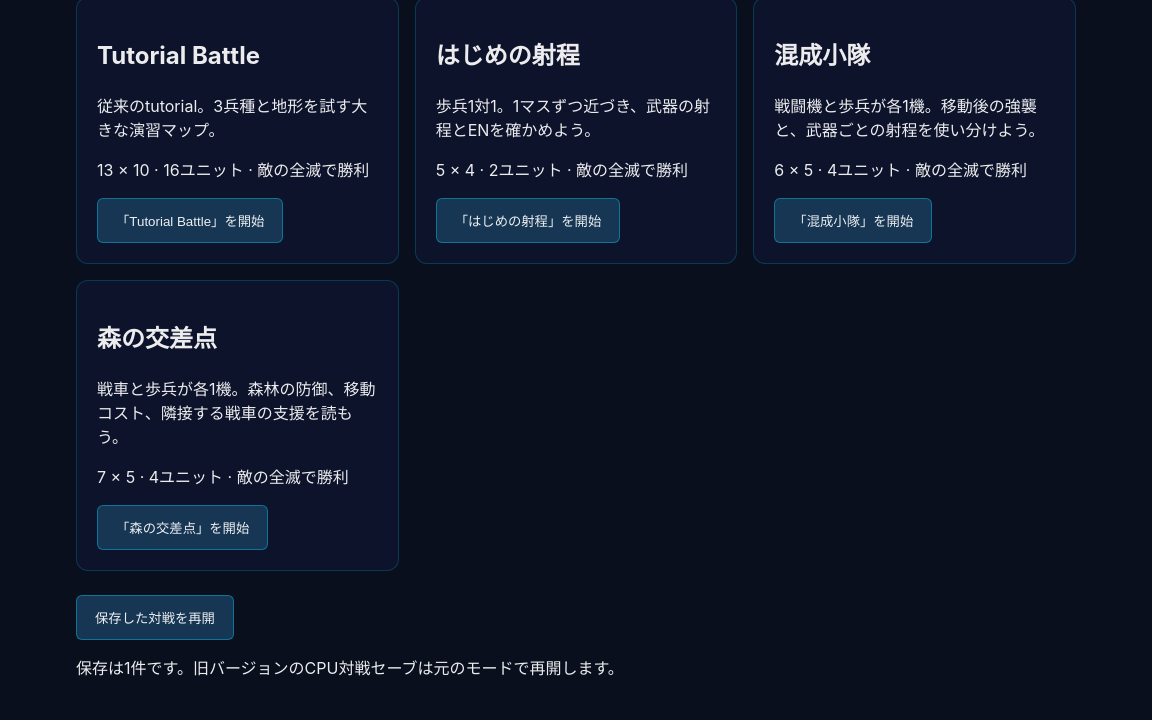
Test case: hotseat application lifecycle › reports unreadable saves without losing the scenario menu
(page scrolled)
Click the button "保存した対戦を再開" at (155, 617), box top-left (76, 594), bottom-right (234, 640)
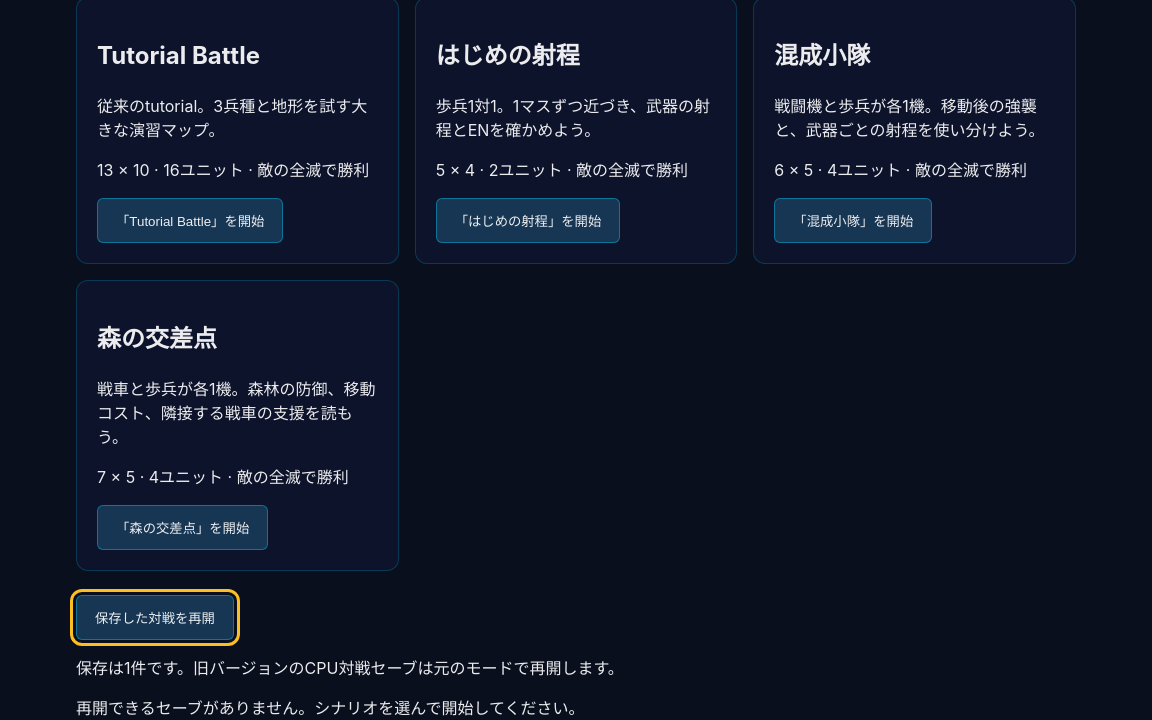
Expected: the number of buttons "「Tutorial Battle」を開始" is 4, top-left (97, 198), bottom-right (283, 243); top-left (436, 198), bottom-right (620, 243); top-left (774, 198), bottom-right (932, 243); top-left (97, 504), bottom-right (268, 550)
Expected: the message shows "再開できるセーブがありません", top-left (76, 698), bottom-right (584, 718)
